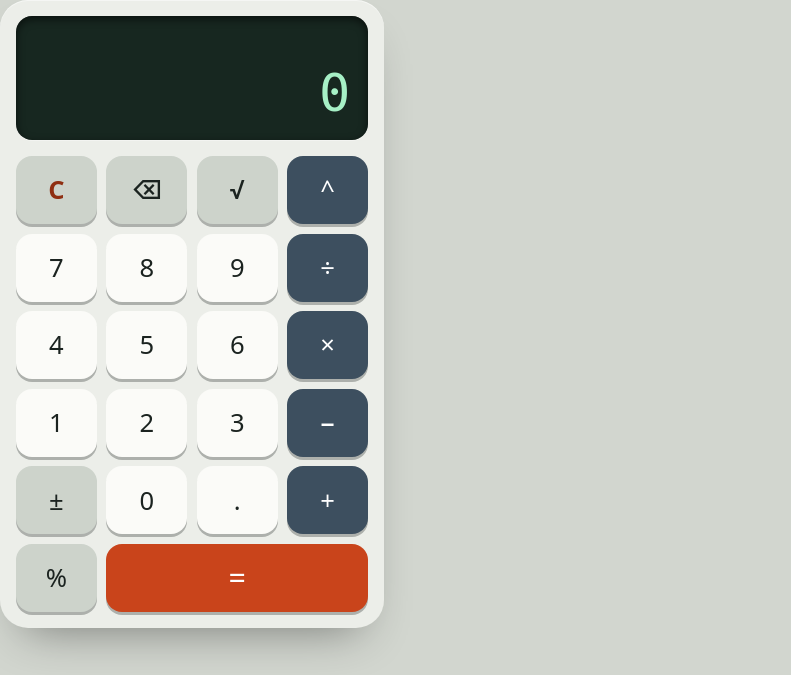
Calculator (mouse and touch) › keeps the numbers after a service failure, so pressing = again retries
This screenshot has width=791, height=675.
Click the button "8": (147,268) [106,234,187,302]
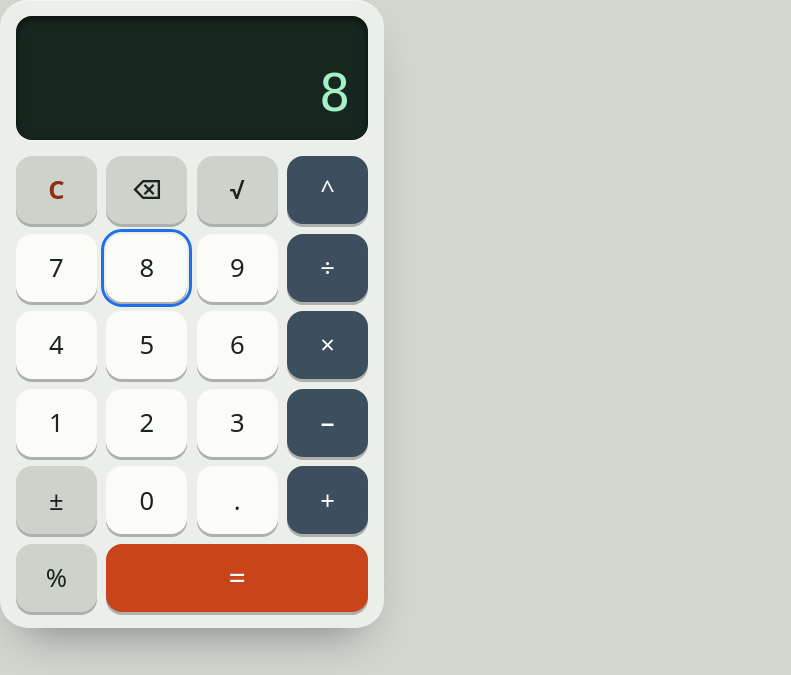
Click the button named "Divide": (328,268) [287,234,368,302]
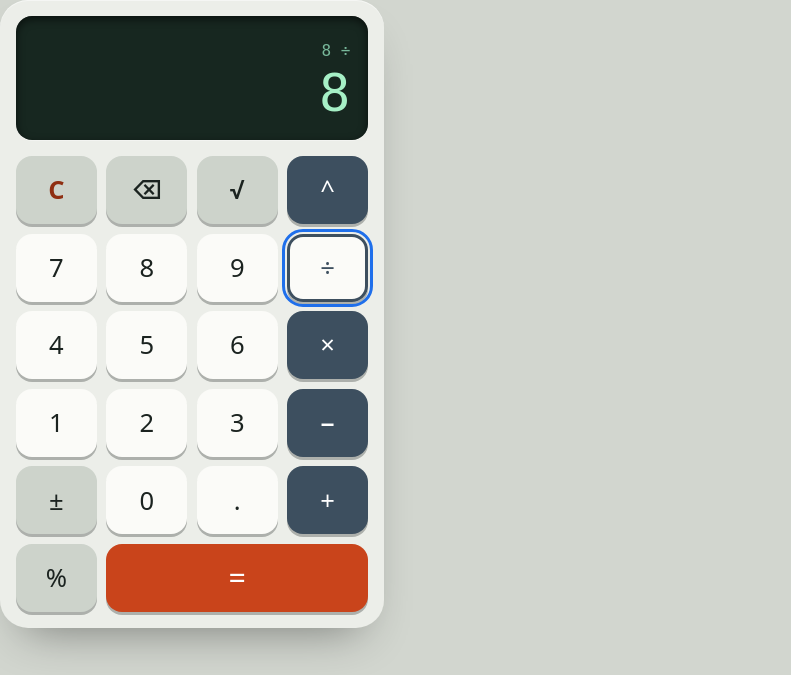
Click the button "2": (147,423) [106,389,187,457]
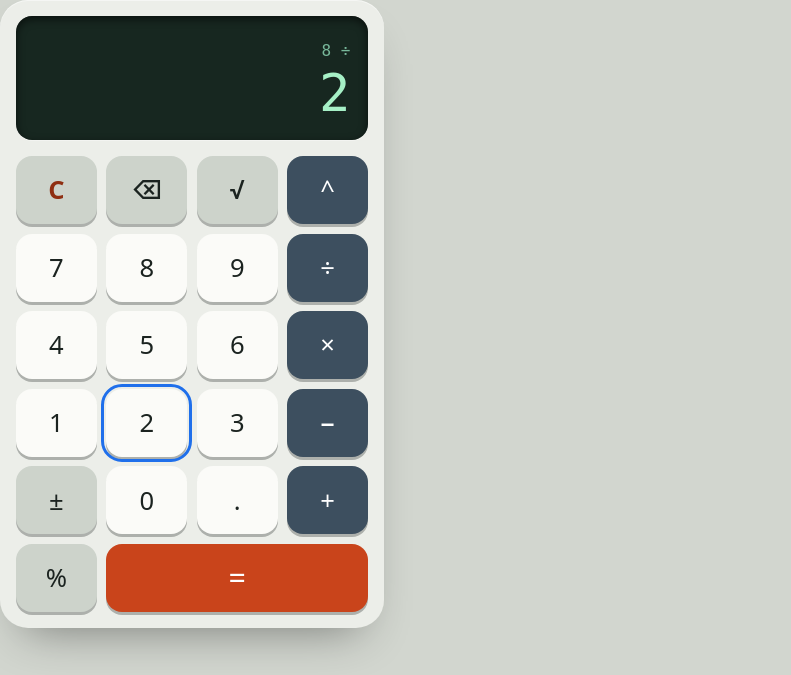
Click the button named "Equals": (237,578) [106,544,368,612]
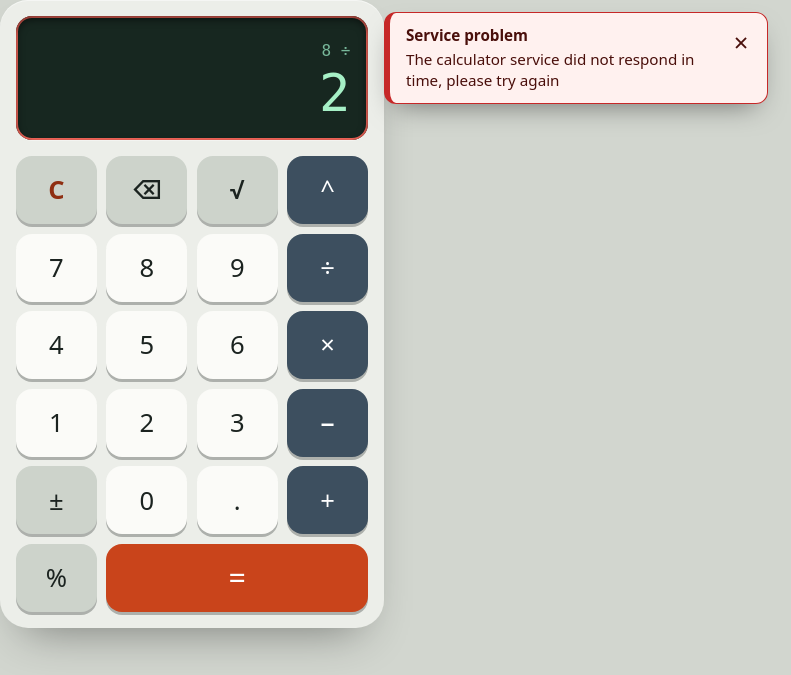
Check: the message "8 ÷ 2" does not show "Error", box [16,16,368,140]
Check: the message "8 ÷ 2" is shown, box [16,16,368,140]
Check: the message that starts with "Service problem" shows "did not respond in time", box [406,49,694,90]
Click the button named "Equals": (237,578) [106,544,368,612]
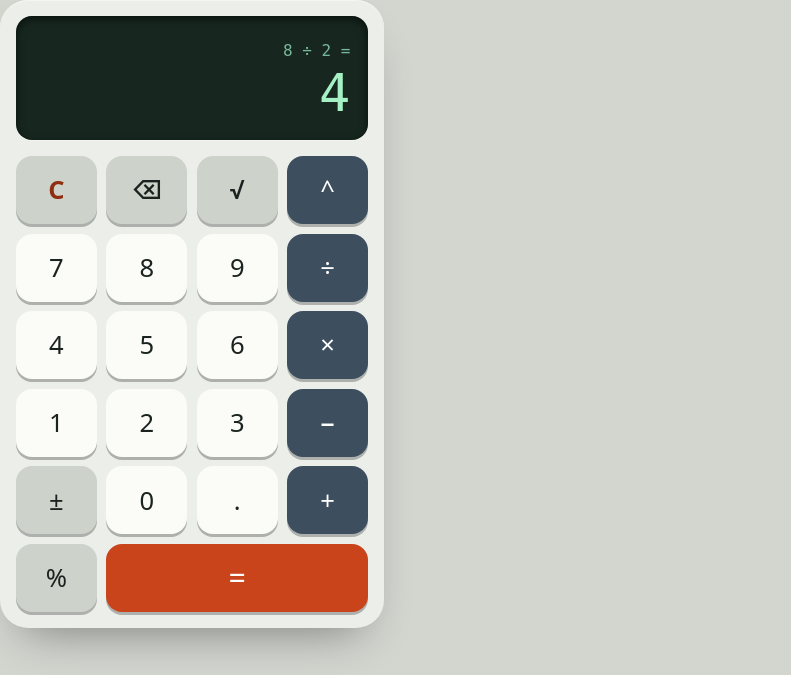
Check: the message reads "8 ÷ 2 = 4", box [16,16,368,140]
